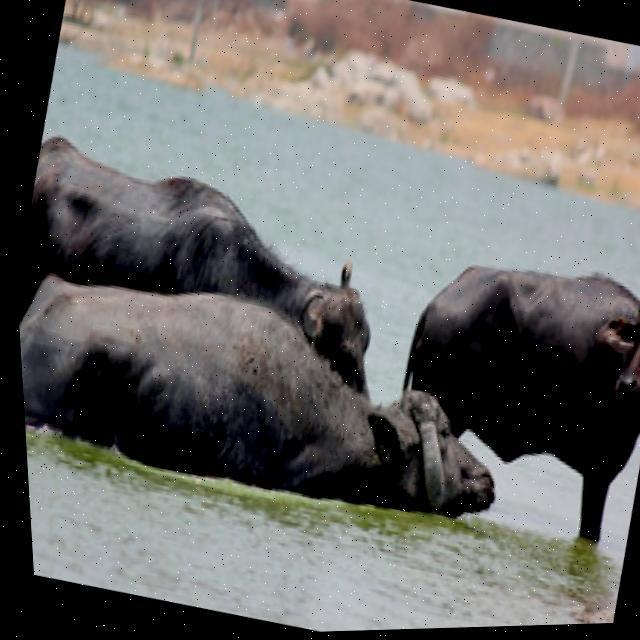Buffalo: (14, 228, 532, 549), (389, 239, 640, 494)
